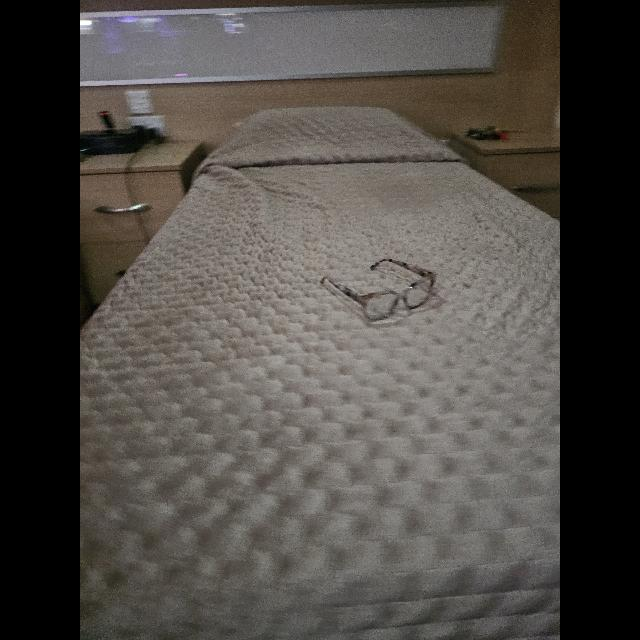glasses: (320, 258, 436, 322)
